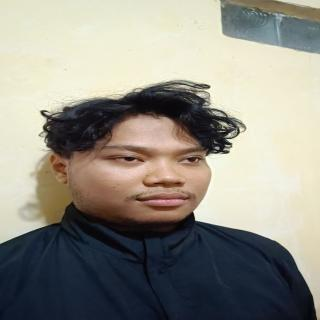Netral: (67, 107, 228, 229)
